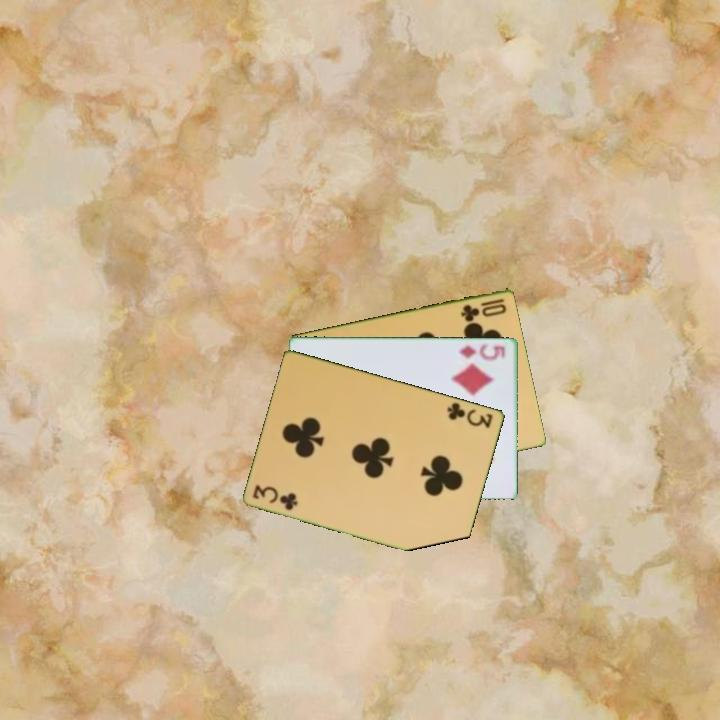10c: (457, 295, 509, 323)
3c: (444, 399, 496, 431), (249, 481, 301, 513)
5d: (455, 340, 508, 363)
